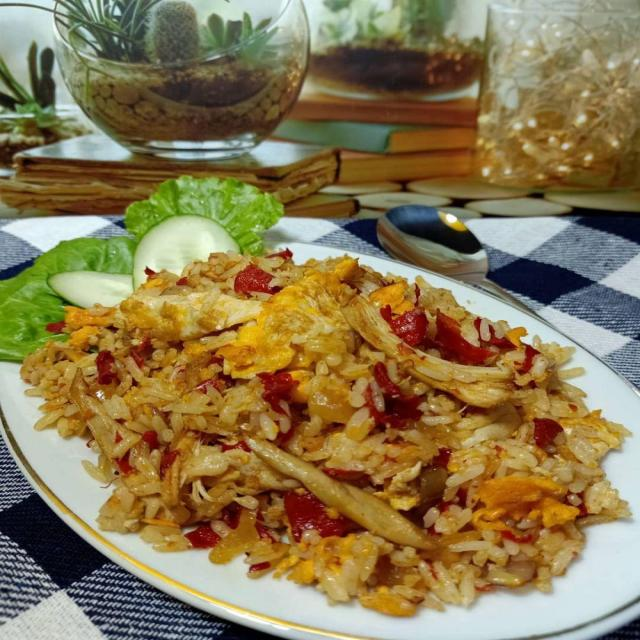Nasi Goreng: (20, 247, 632, 617)
